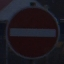No entry: (5, 5, 59, 59)
